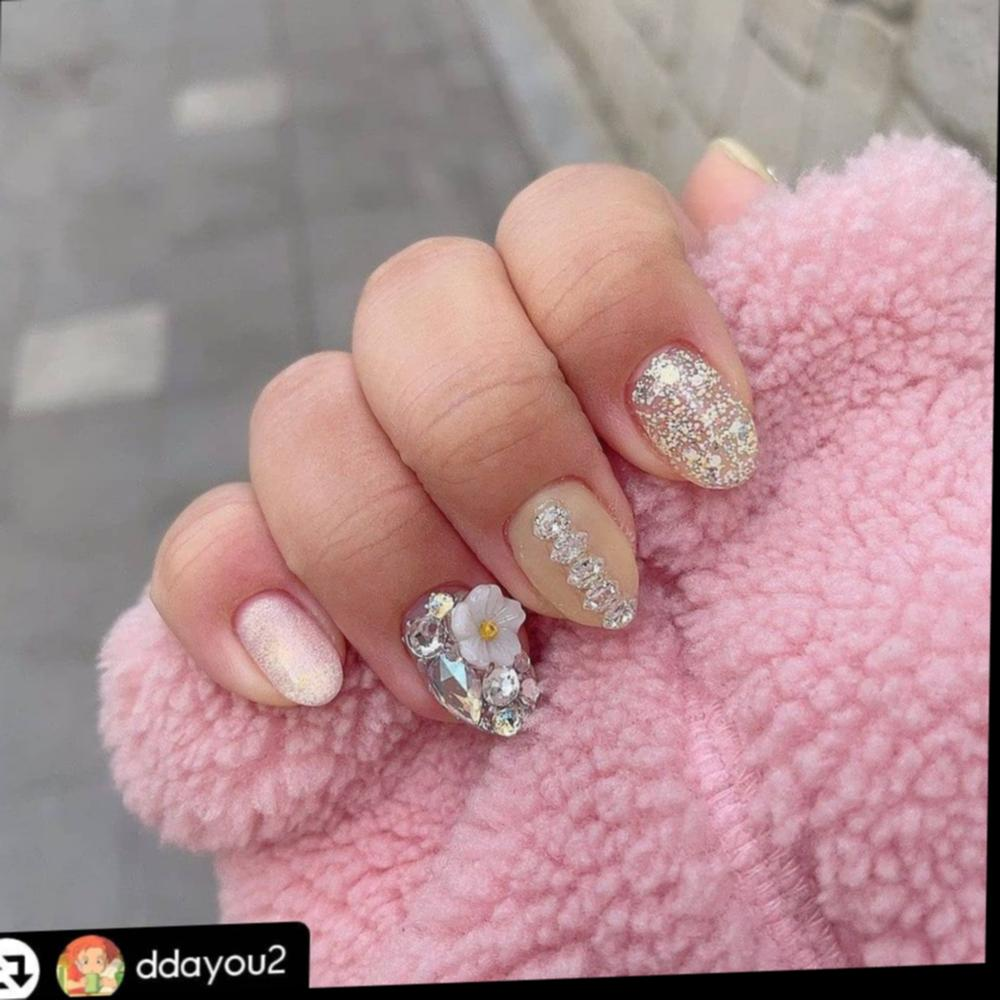nail: (499, 470, 640, 633), (620, 334, 760, 493), (228, 583, 343, 709)
